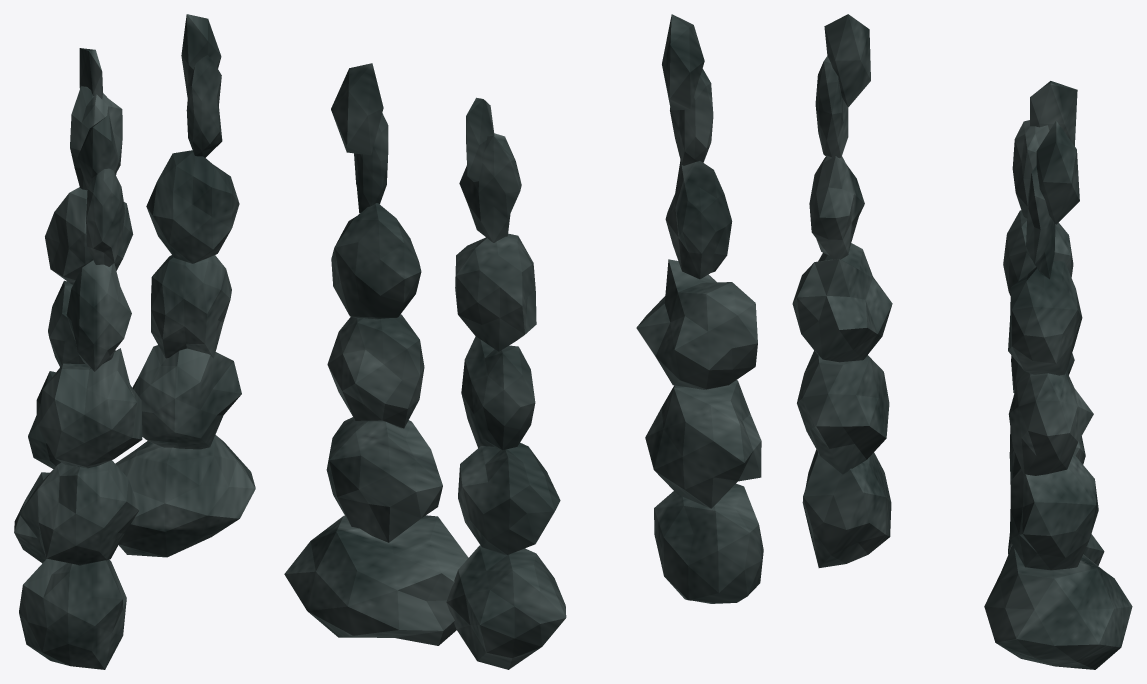
Rendered from 0054_rock_spire_04.glb.
3 renders of one model, left to right at view 1: azimuth 30°, elevation 25°; view 2: azimuth 150°, elevation 25°; view 3: azimuth 270°, elevation 25°, orthographic. The views are drawn at different scales.
Visible parts, largest first — view 1: stone_dark; view 2: stone_dark; view 3: stone_dark.
Part boxes in pixels (x1,y1,x2,y2): stone_dark: [14, 14, 255, 669]; stone_dark: [284, 14, 763, 669]; stone_dark: [792, 14, 1132, 669].
Size of the model in its own units: 1.75 by 2.84 by 1.53.
1 material, 1 textured.
